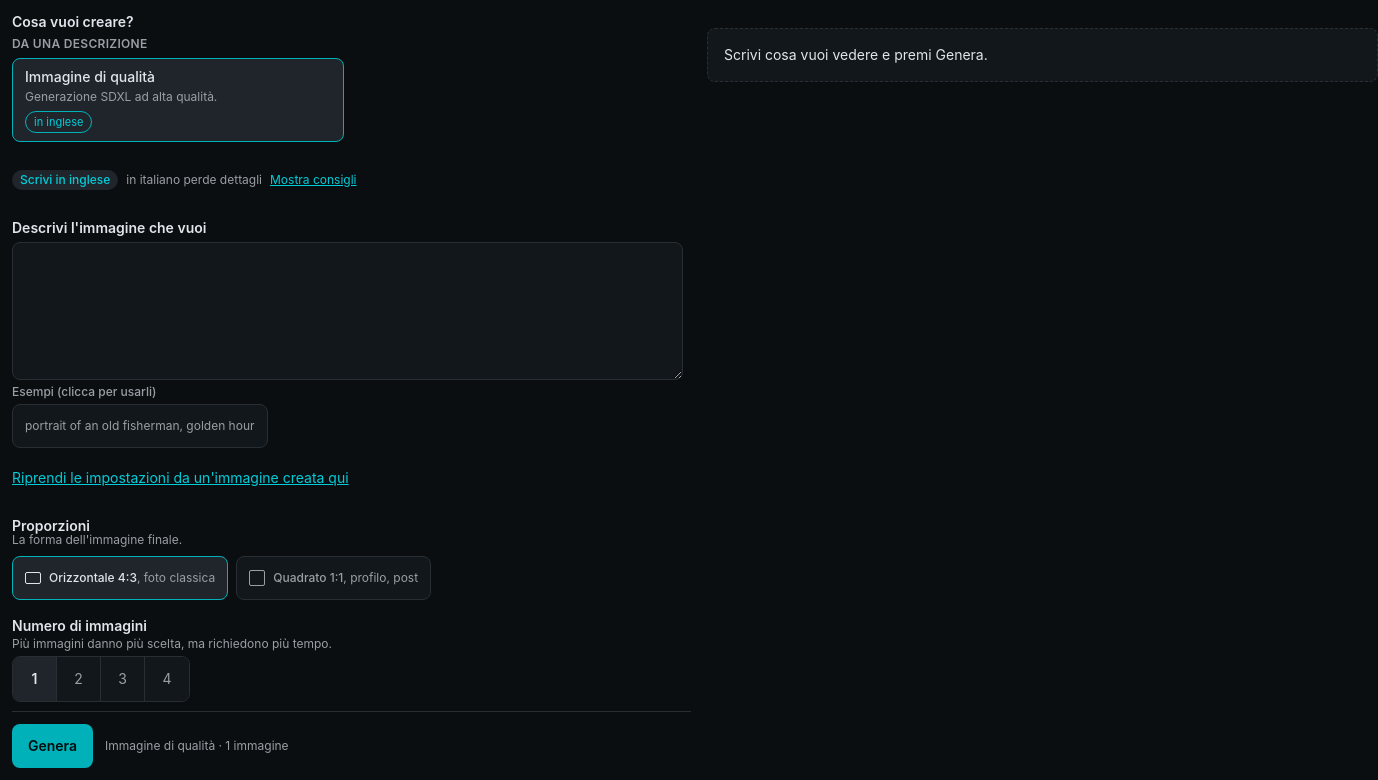
Test: CreatePage job lifecycle › cancels the running job and re-enables Genera when Annulla is clicked
Type "portrait of an old fisherman" into the text box labelled "Descrivi l'immagine che vuoi" at (348, 311), box x1=12 y1=242 x2=683 y2=380
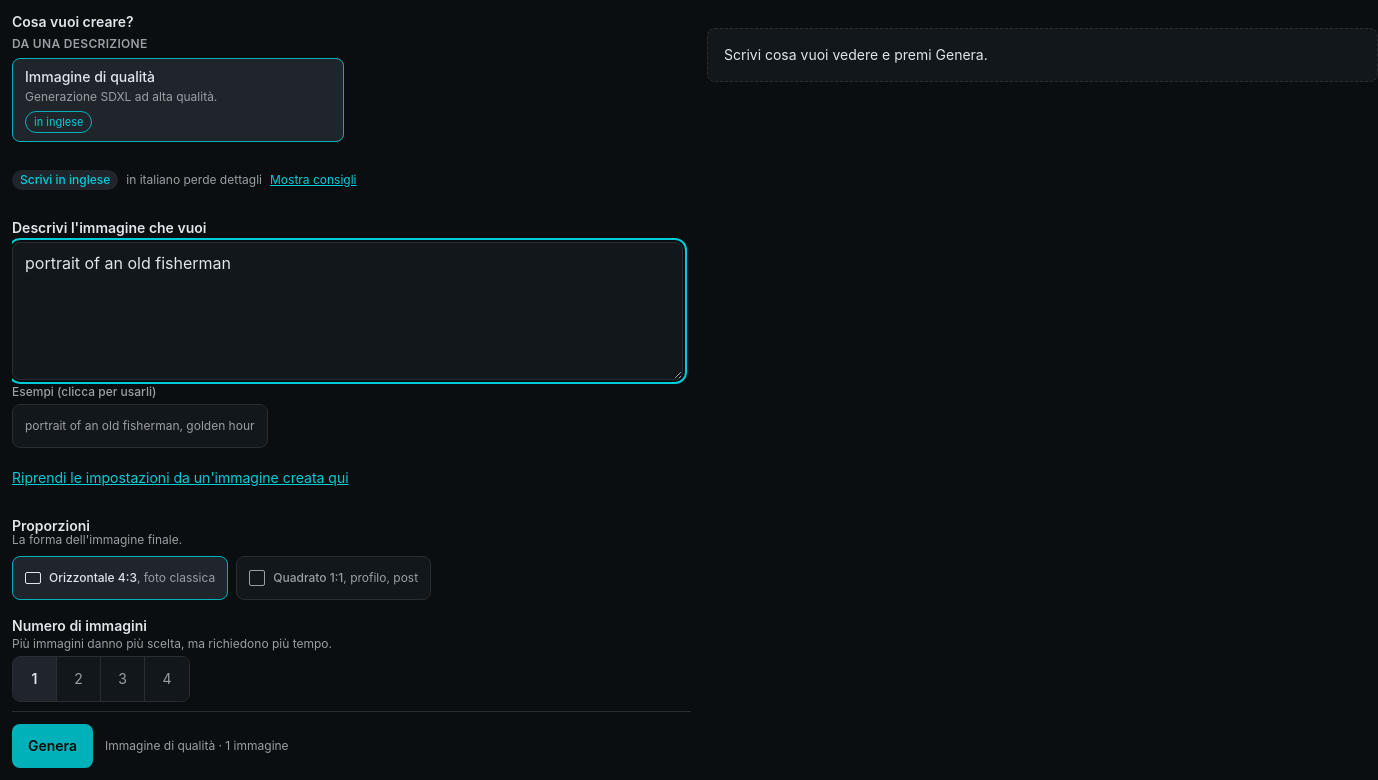
Click the button "Genera" at (53, 746), box x1=12 y1=724 x2=93 y2=768
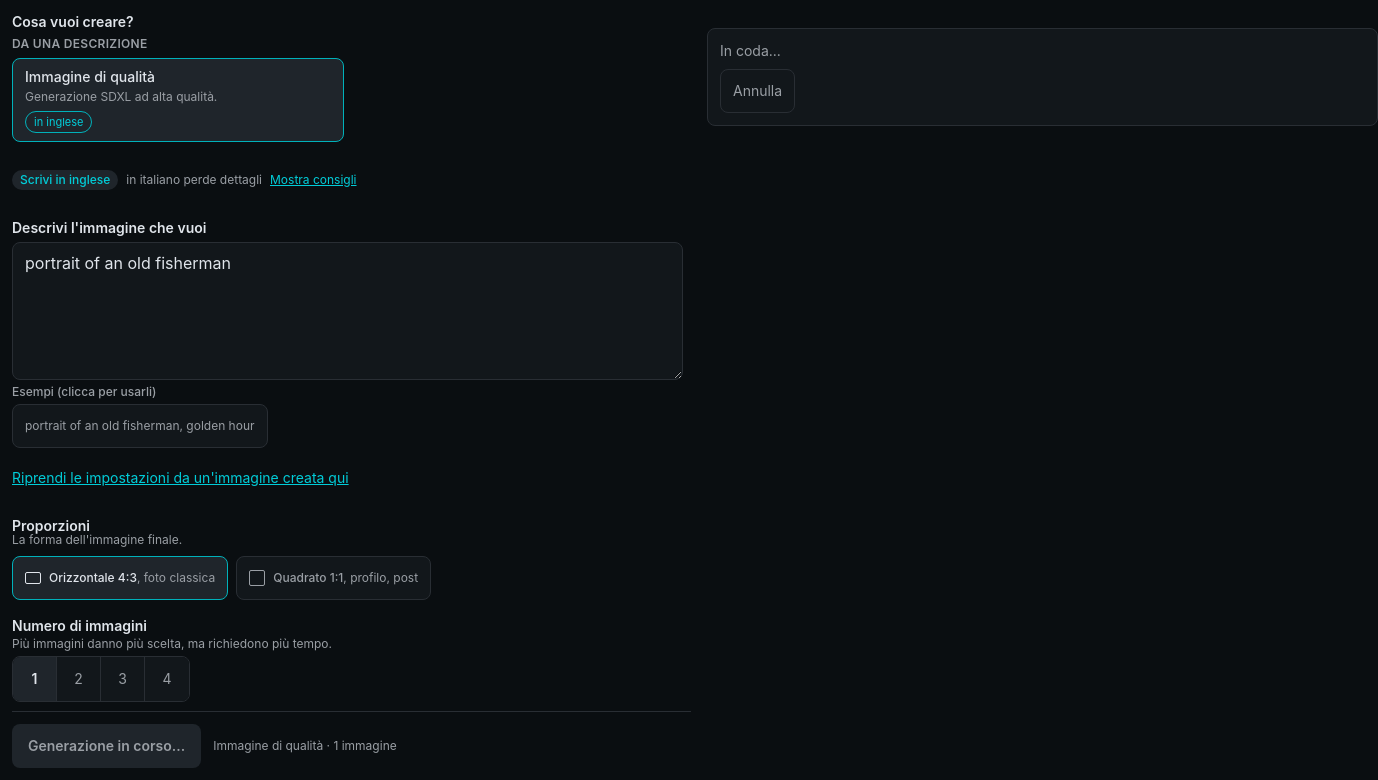
Now the button "Annulla" is shown
Click the button "Annulla" at (758, 91), box x1=720 y1=69 x2=795 y2=113
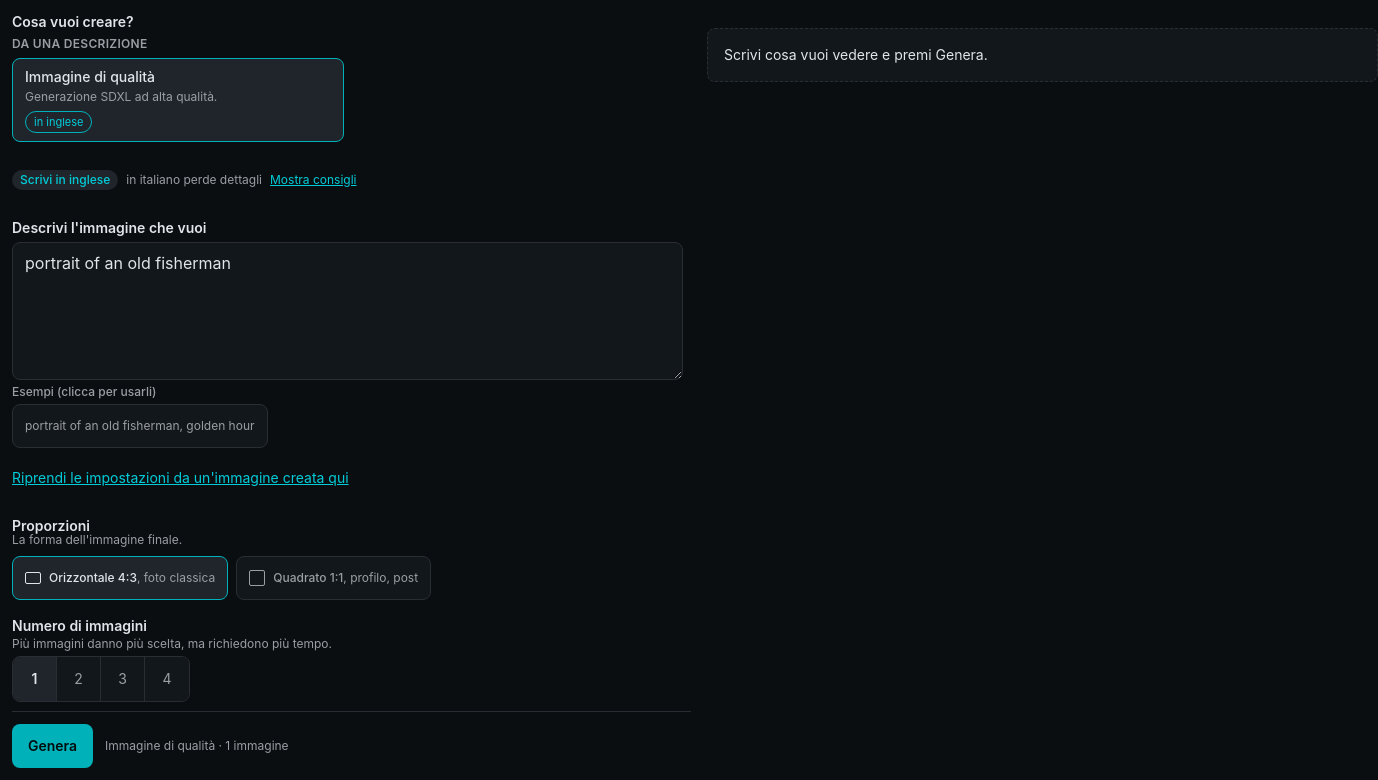
Now the button "Genera" is enabled, box x1=12 y1=724 x2=93 y2=768
